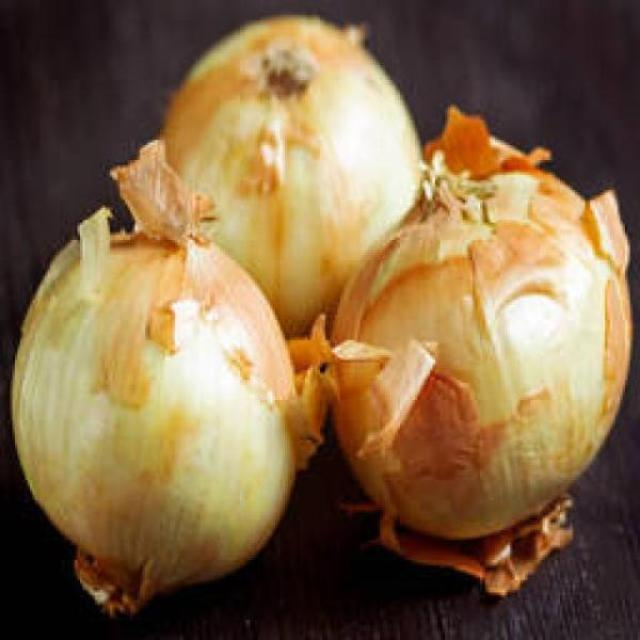Onion: (287, 107, 631, 598), (10, 140, 310, 620), (158, 16, 427, 341)
